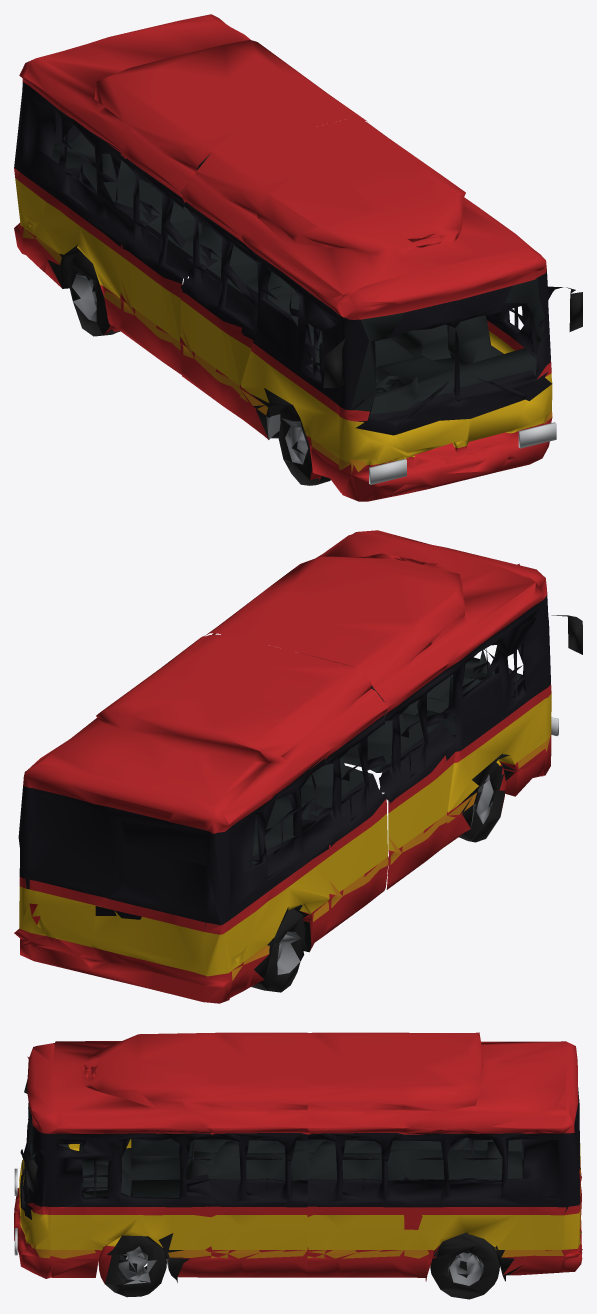
The model's file is mtc_small.glb.
The picture shows the model from 3 angles, top to bottom: view 1: azimuth 30°, elevation 25°; view 2: azimuth 150°, elevation 25°; view 3: azimuth 270°, elevation 25°; orthographic projection. The views are drawn at different scales.
Visible parts, largest first — view 1: geometry_0; view 2: geometry_0; view 3: geometry_0.
Part boxes in pixels (bbox=[...]): geometry_0: bbox=[14, 14, 582, 501]; geometry_0: bbox=[14, 530, 582, 1003]; geometry_0: bbox=[14, 1032, 582, 1299].
Size of the model in its own units: 3.22 by 2.95 by 7.55.
